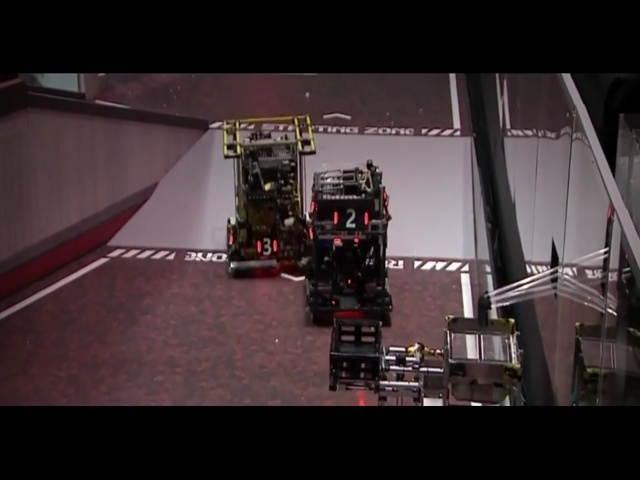plate: (261, 325, 305, 358), (453, 299, 483, 333), (285, 176, 316, 207), (409, 303, 427, 333), (244, 247, 268, 269), (323, 317, 339, 349), (271, 253, 292, 272), (414, 167, 436, 184), (342, 201, 363, 216), (363, 195, 374, 211)
